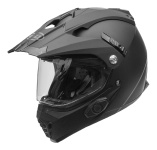Helmet: (7, 9, 151, 144)
